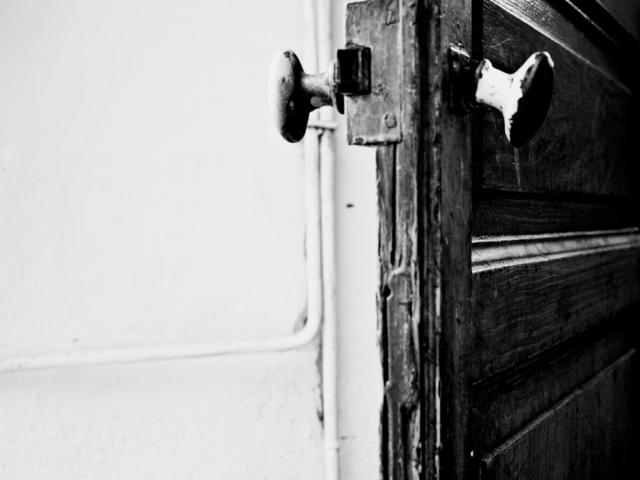Door-handle: (436, 48, 564, 154), (264, 45, 341, 151)
